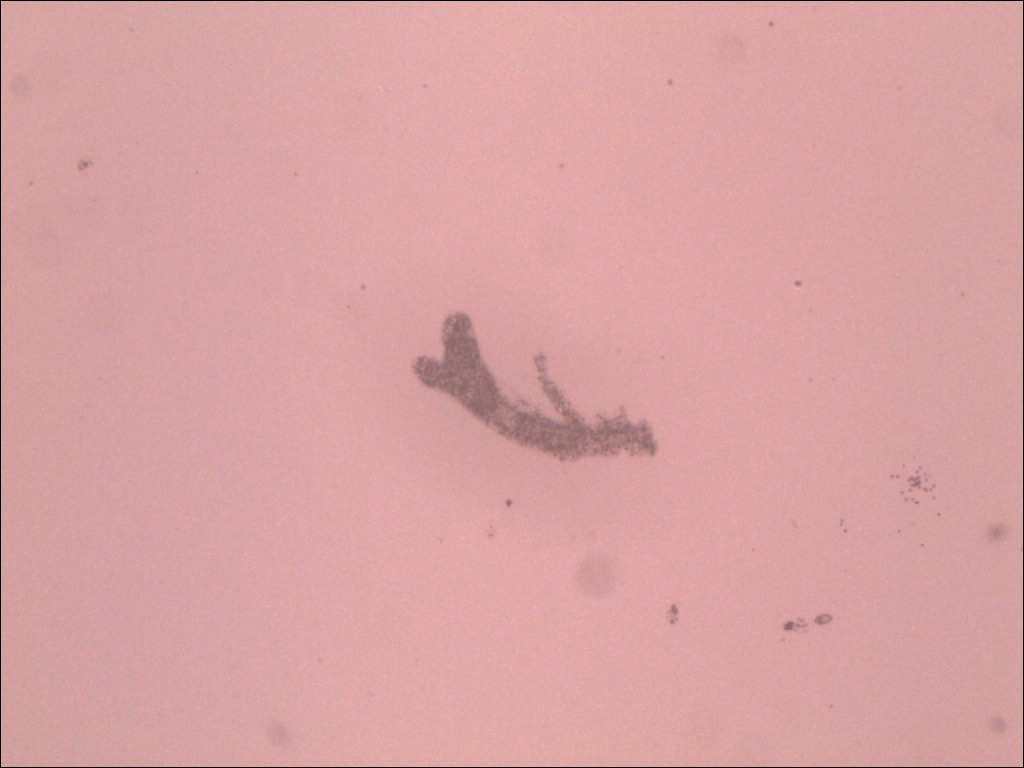amoeba: (400, 302, 669, 468)
